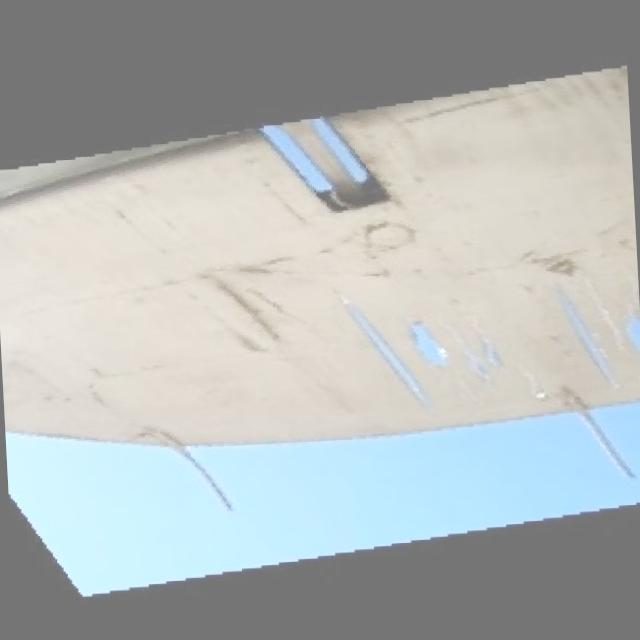crack: (330, 264, 640, 419)
